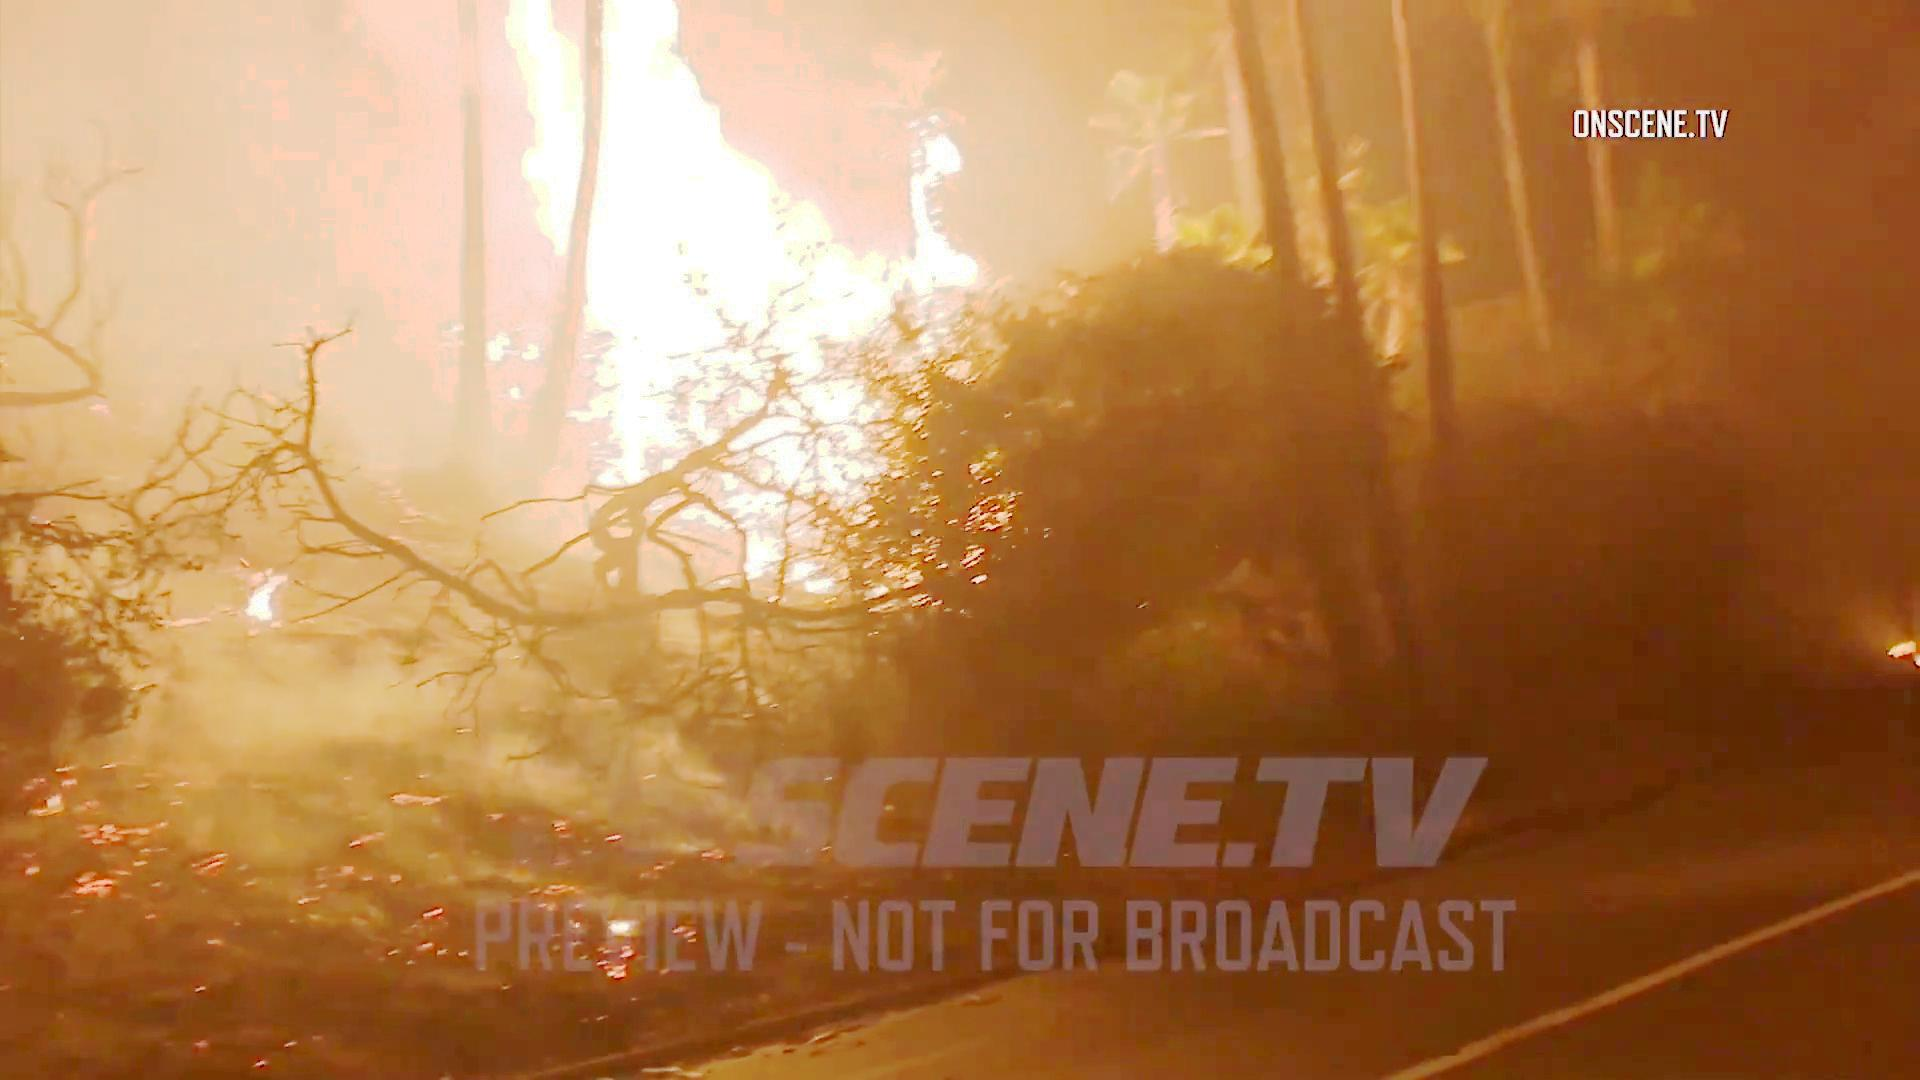fire: (485, 7, 976, 535)
